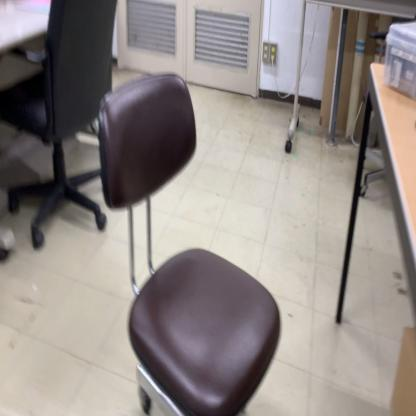chair: (96, 70, 282, 416), (0, 1, 120, 253)
